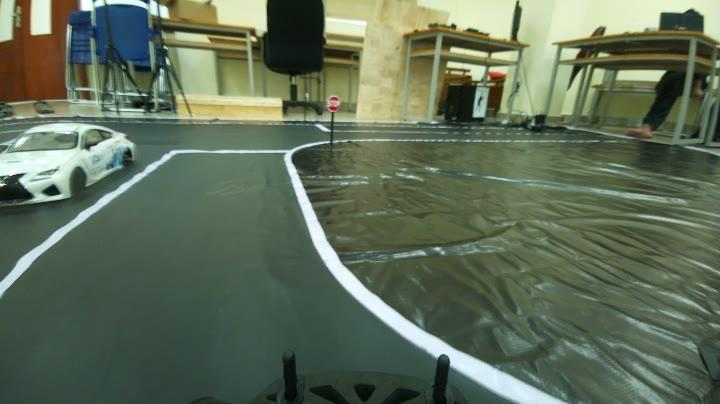car: (0, 114, 148, 208)
stop: (320, 90, 351, 116)
